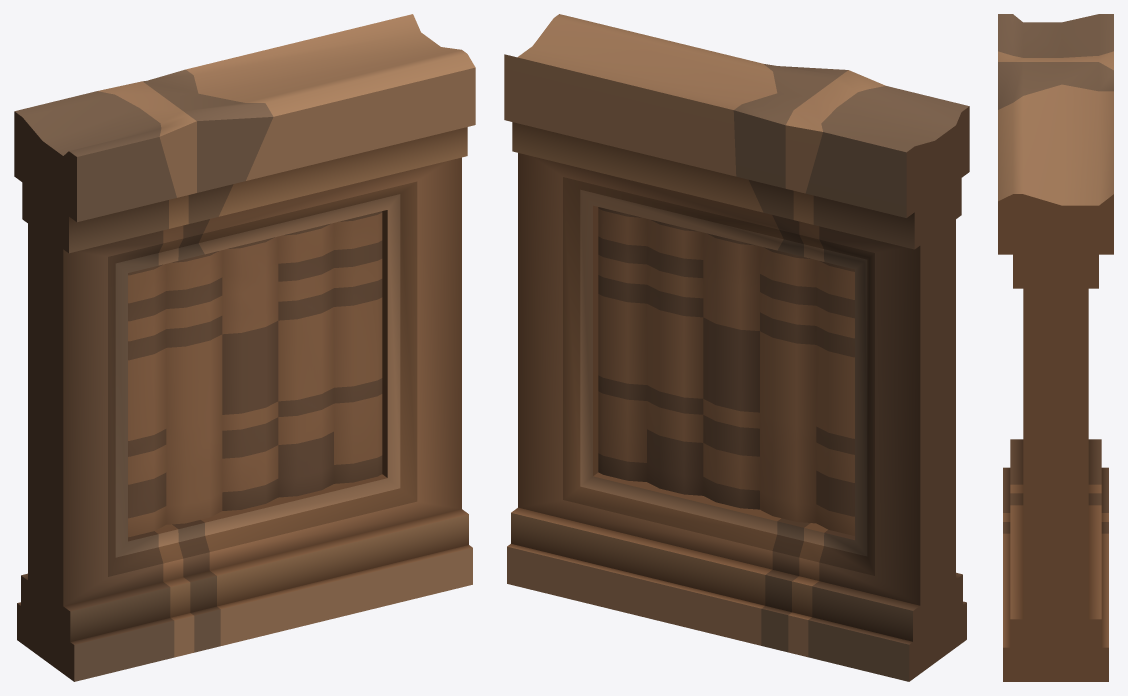
The model's file is Ruins_TempleRuins_alt10.glb.
The picture shows the model from 3 angles, left to right: view 1: azimuth 30°, elevation 25°; view 2: azimuth 150°, elevation 25°; view 3: azimuth 270°, elevation 25°; orthographic projection. The views are drawn at different scales.
Visible parts, largest first — view 1: base168; view 2: base168; view 3: base168.
Part boxes in pixels (x1=…): base168: x1=14, y1=14, x2=475, y2=681; base168: x1=504, y1=14, x2=969, y2=681; base168: x1=998, y1=14, x2=1113, y2=681.
Bounding box in the file's own units: 4.48 × 5.73 × 1.22.
